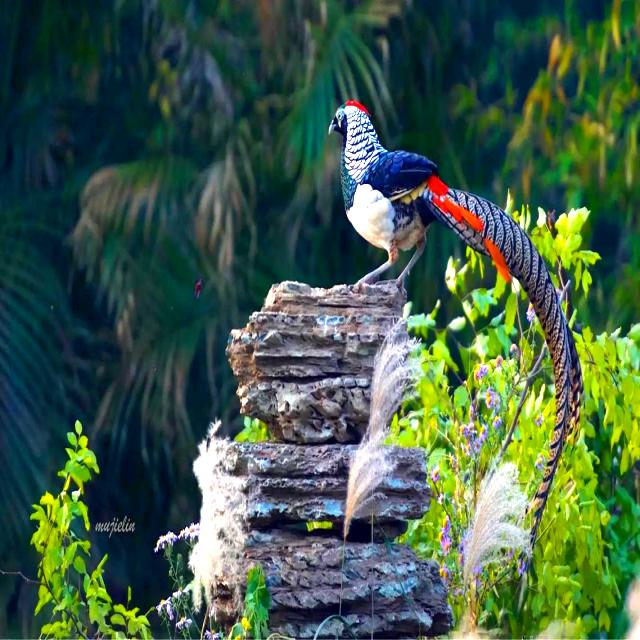Chrysolophus amherstiae: (450, 190, 582, 538)
